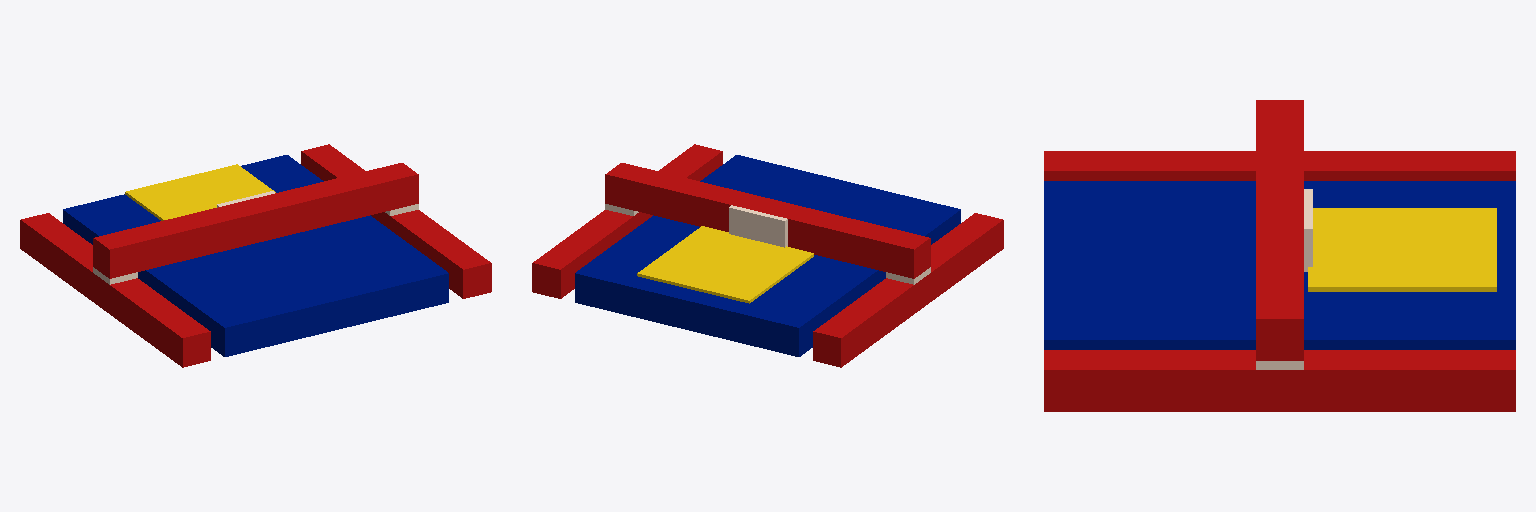
The robot description file, URDF, robot "my_box_bot":
<?xml version="1.0" ?>
<!-- =================================================================================== -->
<!-- |    This document was autogenerated by xacro from vacuscan.xacro                 | -->
<!-- |    EDITING THIS FILE BY HAND IS NOT RECOMMENDED                                 | -->
<!-- =================================================================================== -->
<robot name="my_box_bot">
  <!-- Materials -->
  <material name="blue">
    <color rgba="0.006 0.151 0.581 1"/>
  </material>
  <material name="white">
    <color rgba="1.0 0.91 0.827 1"/>
  </material>
  <material name="green">
    <color rgba="0.0 0.6 0.2 1"/>
  </material>
  <material name="red">
    <color rgba="0.8 0.1 0.1 1"/>
  </material>
  <material name="yellow">
    <color rgba="1.0 0.85 0.1 1"/>
  </material>
  <material name="gray">
    <color rgba="0.5 0.5 0.5 1"/>
  </material>
  <material name="purple">
    <color rgba="0.5 0.1 0.6 1"/>
  </material>
  <!-- ==================== base_link ==================== -->
  <link name="base_link">
    <visual>
      <origin rpy="0 0 0" xyz="0 0 0"/>
      <geometry>
        <!-- 0.8 x 1.0 x 0.1 (w x d x h) -->
        <box size="0.8 1.0 0.1"/>
      </geometry>
      <material name="blue"/>
    </visual>
    <collision>
      <origin rpy="0 0 0" xyz="0 0 0"/>
      <geometry>
        <box size="0.8 1.0 0.1"/>
      </geometry>
    </collision>
    <inertial>
      <mass value="1.2"/>
      <origin rpy="0 0 0" xyz="0 0 0"/>
      <!-- From box inertia formulas -->
      <inertia ixx="0.0100" ixy="0.0" ixz="0.0" iyy="0.0065" iyz="0.0" izz="0.0133"/>
    </inertial>
  </link>
  <gazebo reference="base_link">
    <kp>500000</kp>
    <kd>100</kd>
    <mu1>1.0</mu1>
    <mu2>1.0</mu2>
    <material>Gazebo/Blue</material>
  </gazebo>
  <!-- ==================== left rail ==================== -->
  <link name="rail_left_link">
    <visual>
      <origin rpy="0 0 0" xyz="0 0 0"/>
      <geometry>
        <!-- 0.1 x 1.0 x 0.1 -->
        <box size="0.1 1.0 0.1"/>
      </geometry>
      <material name="red"/>
    </visual>
    <collision>
      <origin rpy="0 0 0" xyz="0 0 0"/>
      <geometry>
        <box size="0.1 1.0 0.1"/>
      </geometry>
    </collision>
    <inertial>
      <mass value="0.5"/>
      <origin rpy="0 0 0" xyz="0 0 0"/>
      <!-- 0.1 x 1.0 x 0.1 box -->
      <inertia ixx="0.00417" ixy="0.0" ixz="0.0" iyy="0.00083" iyz="0.0" izz="0.00417"/>
    </inertial>
  </link>
  <joint name="base_link_to_rail_left_link_joint" type="fixed">
    <origin rpy="0 0 0" xyz="0.5 0 0.0"/>
    <parent link="base_link"/>
    <child link="rail_left_link"/>
  </joint>
  <gazebo reference="rail_left_link">
    <kp>500000</kp>
    <kd>100</kd>
    <mu1>1.0</mu1>
    <mu2>1.0</mu2>
    <material>Gazebo/Red</material>
  </gazebo>
  <!-- ==================== left mount (prismatic) ==================== -->
  <link name="mount_left_link">
    <visual>
      <origin rpy="0 0 0" xyz="0 0 0"/>
      <geometry>
        <box size="0.1 0.1 0.02"/>
      </geometry>
      <material name="white"/>
    </visual>
    <collision>
      <origin rpy="0 0 0" xyz="0 0 0"/>
      <geometry>
        <box size="0.1 0.1 0.02"/>
      </geometry>
    </collision>
    <inertial>
      <mass value="0.2"/>
      <origin rpy="0 0 0" xyz="0 0 0"/>
      <inertia ixx="0.000033" ixy="0.0" ixz="0.0" iyy="0.000033" iyz="0.0" izz="0.000167"/>
    </inertial>
  </link>
  <joint name="y_control_joint" type="prismatic">
    <origin rpy="0 0 0" xyz="0 0 0.06"/>
    <parent link="rail_left_link"/>
    <child link="mount_left_link"/>
    <axis xyz="0 1 0"/>
    <limit effort="100" lower="-0.45" upper="0.2" velocity="0.2"/>
    <dynamics damping="5.0" friction="1.0"/>
  </joint>
  <!-- ==================== right rail ==================== -->
  <link name="rail_right_link">
    <visual>
      <origin rpy="0 0 0" xyz="0 0 0"/>
      <geometry>
        <!-- 0.1 x 1.0 x 0.1 -->
        <box size="0.1 1.0 0.1"/>
      </geometry>
      <material name="red"/>
    </visual>
    <collision>
      <origin rpy="0 0 0" xyz="0 0 0"/>
      <geometry>
        <box size="0.1 1.0 0.1"/>
      </geometry>
    </collision>
    <inertial>
      <mass value="0.5"/>
      <origin rpy="0 0 0" xyz="0 0 0"/>
      <inertia ixx="0.00417" ixy="0.0" ixz="0.0" iyy="0.00083" iyz="0.0" izz="0.00417"/>
    </inertial>
  </link>
  <joint name="base_link_to_rail_right_link_joint" type="fixed">
    <origin rpy="0 0 0" xyz="-0.5 0 0.0"/>
    <parent link="base_link"/>
    <child link="rail_right_link"/>
  </joint>
  <gazebo reference="rail_right_link">
    <kp>500000</kp>
    <kd>100</kd>
    <mu1>1.0</mu1>
    <mu2>1.0</mu2>
    <material>Gazebo/Red</material>
  </gazebo>
  <!-- ==================== right mount (rigid to left mount) ==================== -->
  <link name="mount_right_link">
    <visual>
      <origin rpy="0 0 0" xyz="0 0 0"/>
      <geometry>
        <box size="0.1 0.1 0.02"/>
      </geometry>
      <material name="white"/>
    </visual>
    <collision>
      <origin rpy="0 0 0" xyz="0 0 0"/>
      <geometry>
        <box size="0.1 0.1 0.02"/>
      </geometry>
    </collision>
    <inertial>
      <mass value="0.2"/>
      <origin rpy="0 0 0" xyz="0 0 0"/>
      <inertia ixx="0.000033" ixy="0.0" ixz="0.0" iyy="0.000033" iyz="0.0" izz="0.000167"/>
    </inertial>
  </link>
  <!-- Right mount is rigidly attached relative to left mount -->
  <joint name="mount_left_link_to_mount_right_link_joint" type="fixed">
    <!-- 1.0 m offset in X from left mount -->
    <origin rpy="0 0 0" xyz="-1.0 0 0"/>
    <parent link="mount_left_link"/>
    <child link="mount_right_link"/>
  </joint>
  <!-- ==================== center rail ==================== -->
  <link name="rail_center_link">
    <visual>
      <origin rpy="0 0 0" xyz="0 0 0"/>
      <geometry>
        <!-- 1.1 x 0.1 x 0.1 -->
        <box size="1.1 0.1 0.1"/>
      </geometry>
      <material name="red"/>
    </visual>
    <collision>
      <origin rpy="0 0 0" xyz="0 0 0"/>
      <geometry>
        <box size="1.1 0.1 0.1"/>
      </geometry>
    </collision>
    <inertial>
      <mass value="0.1"/>
      <origin rpy="0 0 0" xyz="0 0 0"/>
      <inertia ixx="0.000183" ixy="0.0" ixz="0.0" iyy="0.00092" iyz="0.0" izz="0.00092"/>
    </inertial>
  </link>
  <joint name="mount_left_link_to_rail_center_link_joint" type="fixed">
    <origin rpy="0 0 0" xyz="-0.5 0 0.06"/>
    <parent link="mount_left_link"/>
    <child link="rail_center_link"/>
  </joint>
  <gazebo reference="rail_center_link">
    <material>Gazebo/Red</material>
  </gazebo>
  <!-- ==================== center mount (X prismatic) ==================== -->
  <link name="mount_center_link">
    <visual>
      <origin rpy="0 0 0" xyz="0 0 0"/>
      <geometry>
        <!-- 0.2 x 0.02 x 0.1 -->
        <box size="0.2 0.02 0.1"/>
      </geometry>
      <material name="white"/>
    </visual>
    <collision>
      <origin rpy="0 0 0" xyz="0 0 0"/>
      <geometry>
        <box size="0.2 0.02 0.1"/>
      </geometry>
    </collision>
    <inertial>
      <mass value="0.1"/>
      <origin rpy="0 0 0" xyz="0 0 0"/>
      <inertia ixx="0.000017" ixy="0.0" ixz="0.0" iyy="0.00017" iyz="0.0" izz="0.000153"/>
    </inertial>
  </link>
  <joint name="x_control_joint" type="prismatic">
    <origin rpy="0 0 0" xyz="0 0.06 0"/>
    <parent link="rail_center_link"/>
    <child link="mount_center_link"/>
    <axis xyz="1 0 0"/>
    <limit effort="100" lower="-0.16" upper="0.16" velocity="0.2"/>
    <dynamics damping="5.0" friction="1.0"/>
  </joint>
  <!-- ==================== wafer holder ==================== -->
  <link name="wafer_holder_link">
    <visual>
      <origin rpy="0 0 0" xyz="0 0 0"/>
      <geometry>
        <!-- 0.4 x 0.4 x 0.01 -->
        <box size="0.4 0.4 0.01"/>
      </geometry>
      <material name="yellow"/>
    </visual>
    <collision>
      <origin rpy="0 0 0" xyz="0 0 0"/>
      <geometry>
        <box size="0.4 0.4 0.01"/>
      </geometry>
    </collision>
    <inertial>
      <mass value="0.1"/>
      <origin rpy="0 0 0" xyz="0 0 0"/>
      <inertia ixx="0.00017" ixy="0.0" ixz="0.0" iyy="0.00017" iyz="0.0" izz="0.00533"/>
    </inertial>
  </link>
  <joint name="mount_center_link_to_wafer_holder_link_joint" type="fixed">
    <origin rpy="0 0 0" xyz="0 0.2 -0.045"/>
    <parent link="mount_center_link"/>
    <child link="wafer_holder_link"/>
  </joint>
  <gazebo reference="wafer_holder_link">
    <material>Gazebo/Yellow</material>
  </gazebo>
  <!-- ==================== joint_state + ros2_control (unchanged) ==================== -->
  <gazebo>
    <plugin filename="libgazebo_ros_joint_state_publisher.so" name="vacuscan_bot_joint_state">
      <ros>
        <remapping>~/out:=joint_states</remapping>
      </ros>
      <update_rate>30</update_rate>
      <joint_name>y_control_joint</joint_name>
      <joint_name>x_control_joint</joint_name>
    </plugin>
  </gazebo>
  <ros2_control name="GazeboSystem" type="system">
    <hardware>
      <plugin>gazebo_ros2_control/GazeboSystem</plugin>
    </hardware>
    <joint name="y_control_joint">
      <command_interface name="position">
        <param name="min">-0.45</param>
        <param name="max">0.2</param>
      </command_interface>
      <state_interface name="position"/>
      <state_interface name="velocity"/>
      <state_interface name="effort"/>
    </joint>
    <joint name="x_control_joint">
      <command_interface name="position">
        <param name="min">-0.16</param>
        <param name="max">0.16</param>
      </command_interface>
      <state_interface name="position"/>
      <state_interface name="velocity"/>
      <state_interface name="effort"/>
    </joint>
  </ros2_control>
  <gazebo>
    <plugin filename="libgazebo_ros2_control.so" name="gazebo_ros2_control">
      <!-- Keep your existing controller YAML path -->
      <parameters>[local-path]/ros2_ws/install/vacuscan_description/share/vacuscan_description/config/controller_position.yaml</parameters>
      <robot_param_node>/vacuscan_bot_state_publisher_node</robot_param_node>
    </plugin>
  </gazebo>
  <!-- *********************** CAMERA SETUP *********************************  -->
  <!-- Each sensor must be attached to a link.                              -->
  <joint name="camera_joint" type="fixed">
    <parent link="base_link"/>
    <child link="camera_link"/>
    <origin rpy="0 1.57 0" xyz="0.0 0.0 1.2"/>
  </joint>
  <link name="camera_link"/>
  <gazebo reference="camera_link">
    <sensor name="camera" type="camera">
      <update_rate>30.0</update_rate>
      <always_on>1</always_on>
      <visualize>true</visualize>
      <camera name="camera">
        <horizontal_fov>1.3962634</horizontal_fov>
        <image>
          <width>480</width>
          <height>360</height>
          <format>R8G8B8</format>
        </image>
        <clip>
          <!-- distance described in meters -->
          <near>0.01</near>
          <far>20</far>
        </clip>
        <distortion>
          <k1>0.0</k1>
          <k2>0.0</k2>
          <k3>0.0</k3>
          <p1>0.0</p1>
          <p2>0.0</p2>
          <center>0.5 0.5</center>
        </distortion>
      </camera>
      <plugin filename="libgazebo_ros_camera.so" name="camera_controller">
        <ros>
          <remapping>~/image_raw:=camera/image_raw</remapping>
          <remapping>~/camera_info:=camera/camera_info</remapping>
        </ros>
        <camera_name>camera_low</camera_name>
        <frame_name>camera_link</frame_name>
      </plugin>
    </sensor>
  </gazebo>
  <!-- *********************** CAMERA2 SETUP *********************************  -->
  <!-- Each sensor must be attached to a link. -->
  <joint name="camera2_joint" type="fixed">
    <parent link="base_link"/>
    <child link="camera2_link"/>
    <!-- x y z (meters), r p y (radians) -->
    <origin rpy="0 0.785 0" xyz="-0.8 0.0 0.8"/>
  </joint>
  <link name="camera2_link"/>
  <gazebo reference="camera2_link">
    <sensor name="camera2" type="camera">
      <update_rate>30.0</update_rate>
      <always_on>1</always_on>
      <visualize>true</visualize>
      <camera name="camera2">
        <horizontal_fov>1.3962634</horizontal_fov>
        <image>
          <width>480</width>
          <height>360</height>
          <format>R8G8B8</format>
        </image>
        <clip>
          <near>0.01</near>
          <far>20</far>
        </clip>
        <distortion>
          <k1>0.0</k1>
          <k2>0.0</k2>
          <k3>0.0</k3>
          <p1>0.0</p1>
          <p2>0.0</p2>
          <center>0.5 0.5</center>
        </distortion>
      </camera>
      <plugin filename="libgazebo_ros_camera.so" name="camera2_controller">
        <ros>
          <!-- optional namespace
            <namespace>/vacuscan</namespace>
            -->
          <!-- Remap default ~/image_raw and ~/camera_info to unique topics -->
          <remapping>~/image_raw:=/camera2/image_raw</remapping>
          <remapping>~/camera_info:=/camera2/camera_info</remapping>
        </ros>
        <camera_name>camera_low2</camera_name>
        <frame_name>camera2_link</frame_name>
      </plugin>
    </sensor>
  </gazebo>
  <!-- *********************** Laser scanner *********************************  -->
  <!-- Each sensor must be attached to a link.                              -->
  <joint name="laser_joint" type="fixed">
    <parent link="base_link"/>
    <child link="laser_link"/>
    <origin rpy="1.57 0 0" xyz="0.0 0.0 1.5"/>
  </joint>
  <link name="laser_link"/>
  <!-- laser Sensors -->
  <gazebo reference="laser_link">
    <sensor name="sensor_ray" type="ray">
      <pose>0 0 0 0 0 0</pose>
      <ray>
        <scan>
          <horizontal>
            <samples>200</samples>
            <resolution>1.0</resolution>
            <min_angle>-2.02</min_angle>
            <max_angle>-1.12</max_angle>
          </horizontal>
        </scan>
        <range>
          <min>0.1</min>
          <max>5.0</max>
        </range>
      </ray>
      <always_on>true</always_on>
      <visualize>true</visualize>
      <update_rate>100.0</update_rate>
      <plugin filename="libgazebo_ros_ray_sensor.so" name="laser">
        <ros>
          <namespace>/vacuscan</namespace>
          <remapping>~/out:=laser_scan</remapping>
        </ros>
        <output_type>sensor_msgs/LaserScan</output_type>
        <frame_name>laser_link</frame_name>
      </plugin>
    </sensor>
  </gazebo>
</robot>

--- What the picture shows (computed from the rendered views, not written in the file) ---
The picture shows the robot from 3 angles, left to right: view 1: azimuth 30°, elevation 25°; view 2: azimuth 150°, elevation 25°; view 3: azimuth 270°, elevation 25°; orthographic projection.
Model my_box_bot with 11 links and 10 joints (2 prismatic, 8 fixed), rooted at base_link, posed all joints at 0.
Links seen in each view (by area): view 1: base_link, rail_center_link, rail_right_link, rail_left_link, wafer_holder_link; view 2: base_link, rail_center_link, rail_right_link, wafer_holder_link, rail_left_link, mount_center_link; view 3: base_link, rail_left_link, wafer_holder_link, rail_right_link, rail_center_link, mount_center_link.
Boxes of the visible links, bbox=[...] form: base_link: bbox=[63, 155, 448, 356]; rail_center_link: bbox=[93, 163, 418, 278]; rail_right_link: bbox=[20, 213, 210, 367]; rail_left_link: bbox=[301, 144, 491, 298]; wafer_holder_link: bbox=[125, 164, 275, 220]; base_link: bbox=[575, 155, 960, 356]; rail_center_link: bbox=[605, 163, 930, 278]; rail_right_link: bbox=[813, 213, 1003, 367]; wafer_holder_link: bbox=[637, 226, 813, 303]; rail_left_link: bbox=[532, 144, 722, 298]; mount_center_link: bbox=[729, 205, 787, 247]; base_link: bbox=[1044, 181, 1515, 349]; rail_left_link: bbox=[1044, 350, 1515, 411]; wafer_holder_link: bbox=[1308, 208, 1496, 291]; rail_right_link: bbox=[1044, 151, 1515, 180]; rail_center_link: bbox=[1256, 100, 1303, 360]; mount_center_link: bbox=[1304, 189, 1312, 271].
Bounding box of the posed robot: 1.1 × 1 × 0.22 m (x, y, z).
Geometry: primitives only (box / cylinder / sphere), no mesh files.
